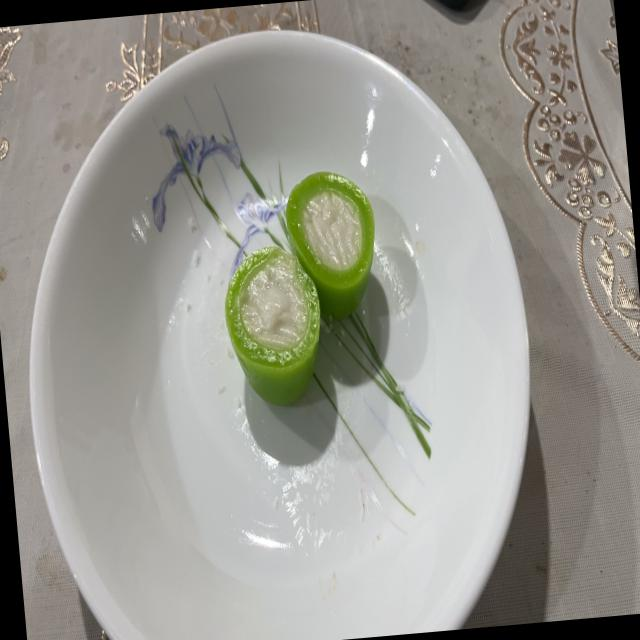nona-manis: (224, 246, 320, 404), (285, 172, 374, 319)
